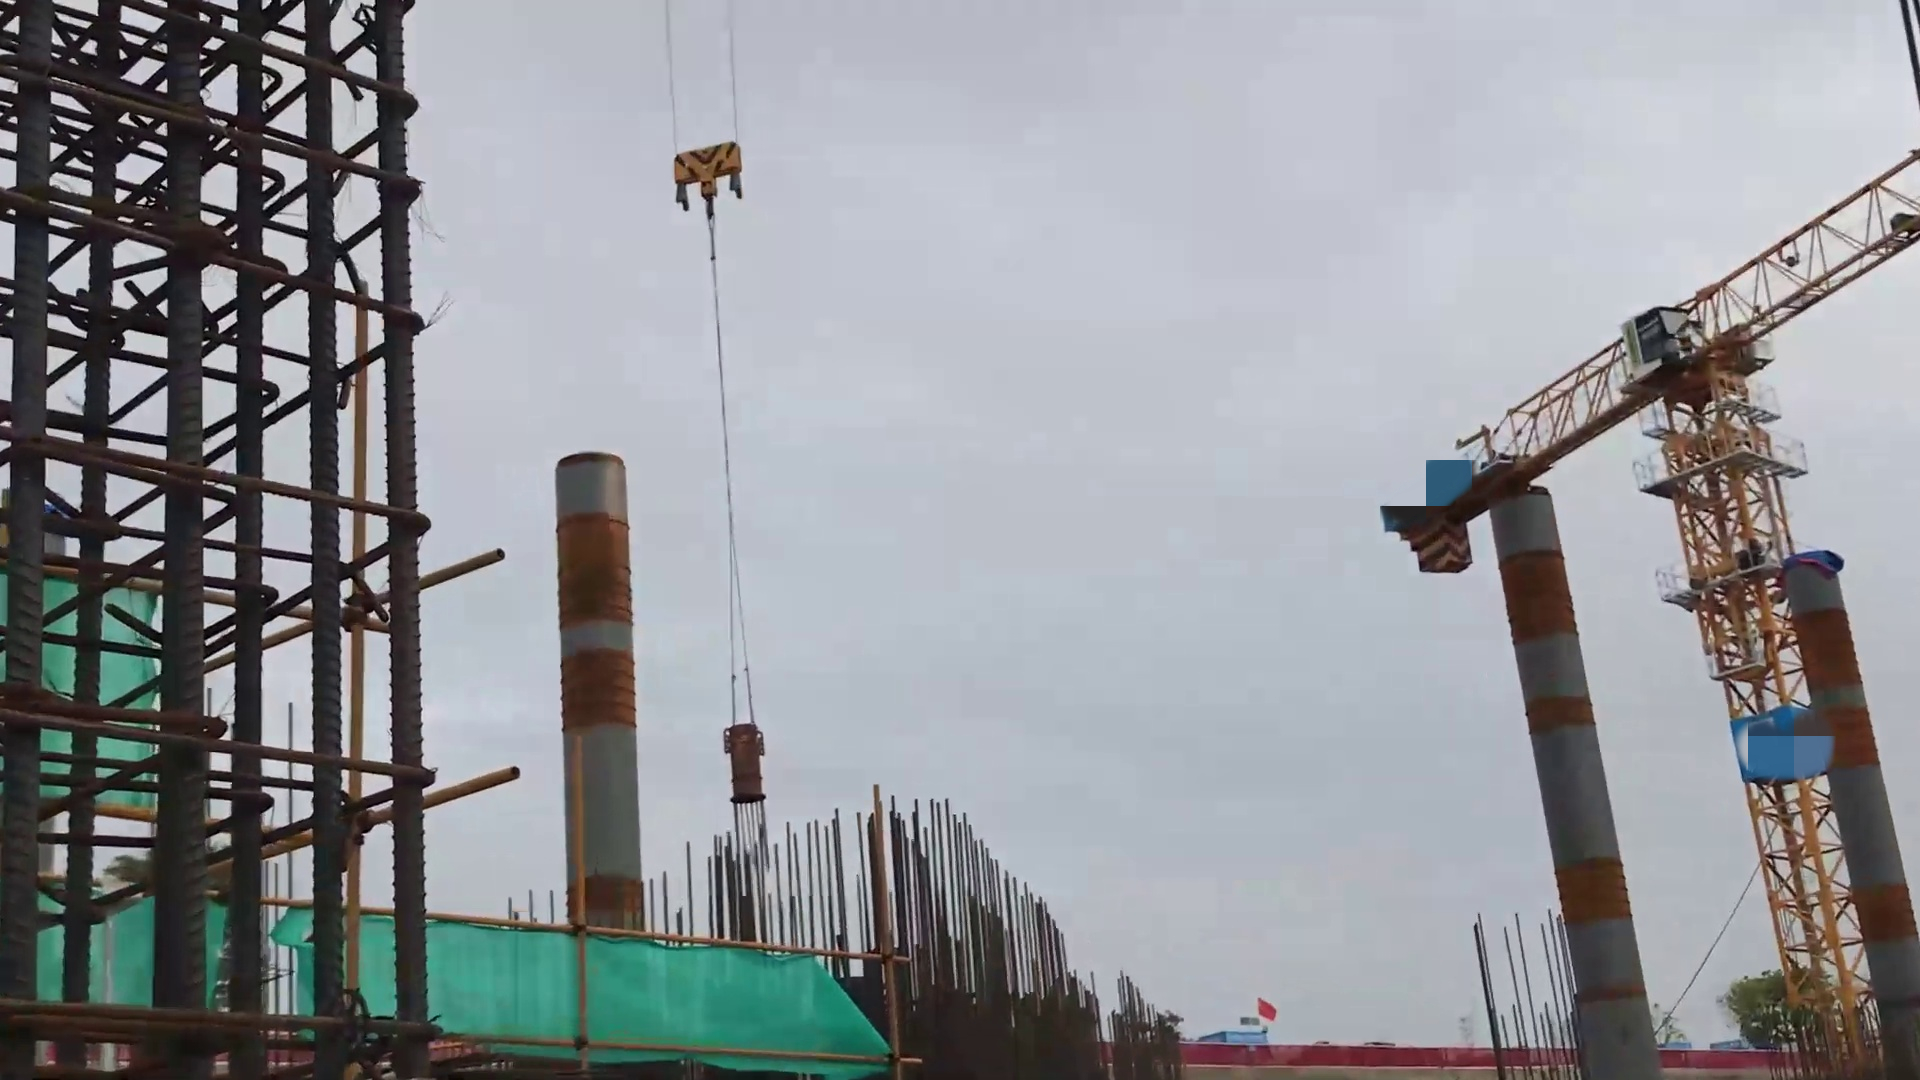hook: (674, 144, 742, 216)
